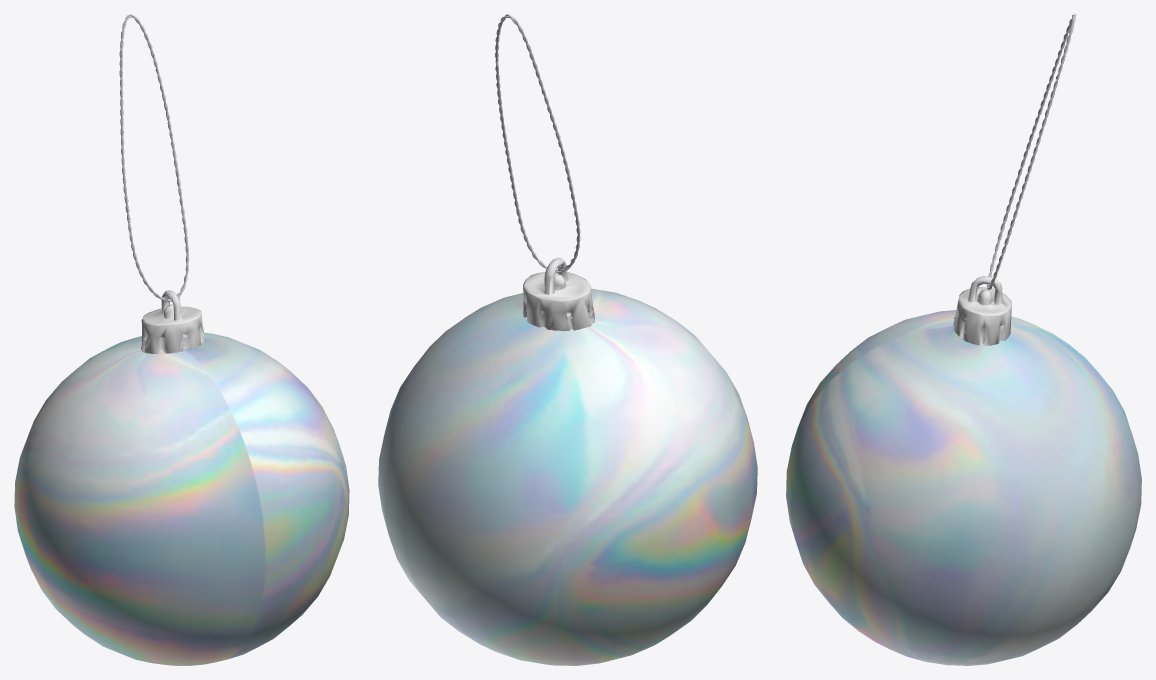
File: Iridescent_Ball_L.glb
The picture shows the model from 3 angles, left to right: view 1: azimuth 30°, elevation 25°; view 2: azimuth 150°, elevation 25°; view 3: azimuth 270°, elevation 25°; orthographic projection. The views are drawn at different scales.
Parts seen in each view (by area): view 1: Sphere, GN Instance; view 2: Sphere, GN Instance; view 3: Sphere, GN Instance.
Part boxes in pixels (box(x1,y1,x2,y2)): Sphere: box(14, 290, 349, 665); GN Instance: box(119, 14, 189, 301); Sphere: box(378, 257, 757, 665); GN Instance: box(495, 14, 580, 273); Sphere: box(786, 276, 1141, 665); GN Instance: box(987, 14, 1075, 289).
Size of the model in its own units: 0.0691 by 0.1359 by 0.069.
3 materials, 1 textured.
